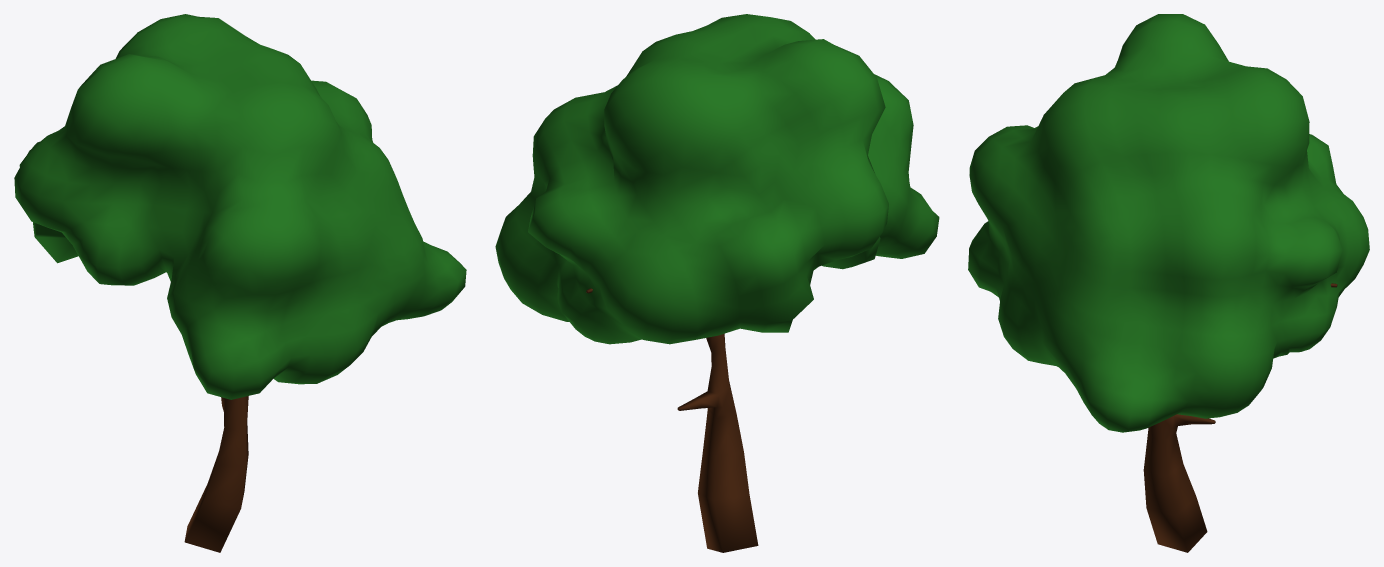
The model's file is arbol1.fbx.
3 views of the same model, side by side, from view 1: azimuth 30°, elevation 25°; view 2: azimuth 150°, elevation 25°; view 3: azimuth 270°, elevation 25° (orthographic). The views are drawn at different scales.
Parts seen in each view (by area): view 1: tree1; view 2: tree1; view 3: tree1.
Boxes of the visible parts, left/top/right/bottom form: tree1: left=14, top=14, right=466, bottom=552; tree1: left=495, top=14, right=939, bottom=552; tree1: left=968, top=14, right=1369, bottom=552.
Bounding box in the file's own units: 573 × 705 × 525.
